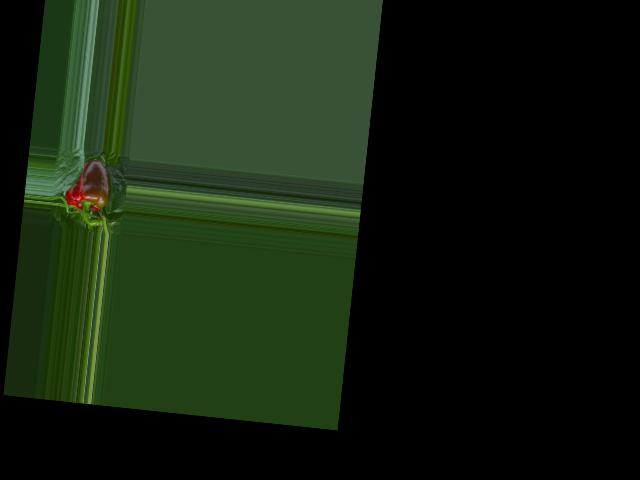bell_pepper: (61, 153, 119, 219)
